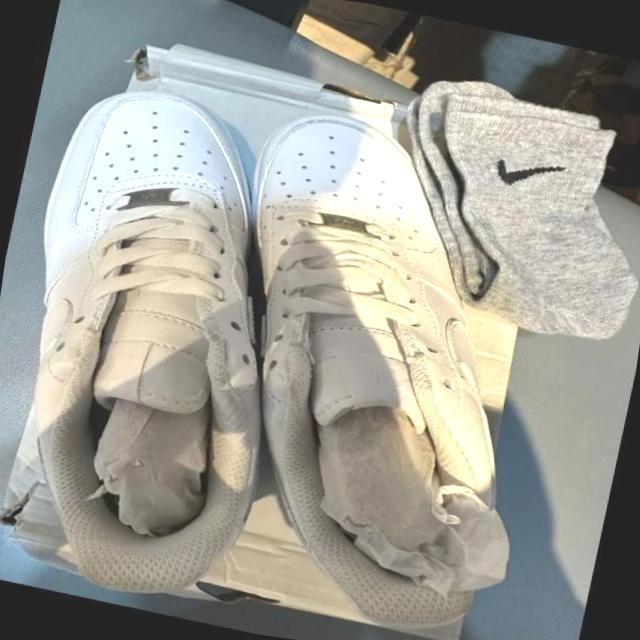nike_fake_airforce: (153, 88, 592, 640), (0, 65, 343, 620)
